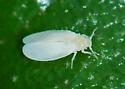whitefly: (19, 23, 104, 65)
